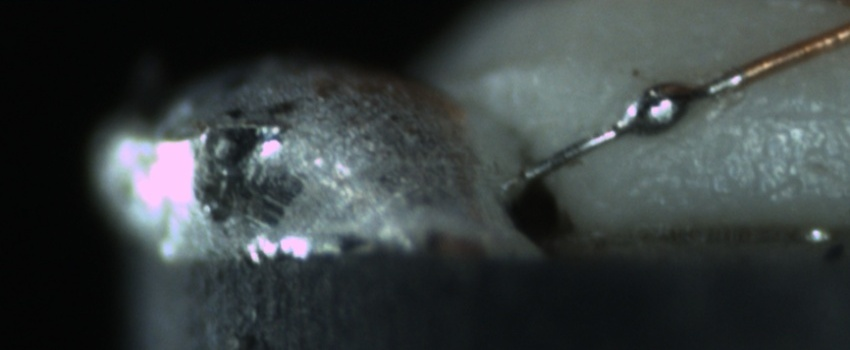DL: (714, 86, 850, 145)
TB: (622, 72, 709, 147)
TS: (507, 66, 744, 194)
TTCW: (494, 45, 792, 201)
